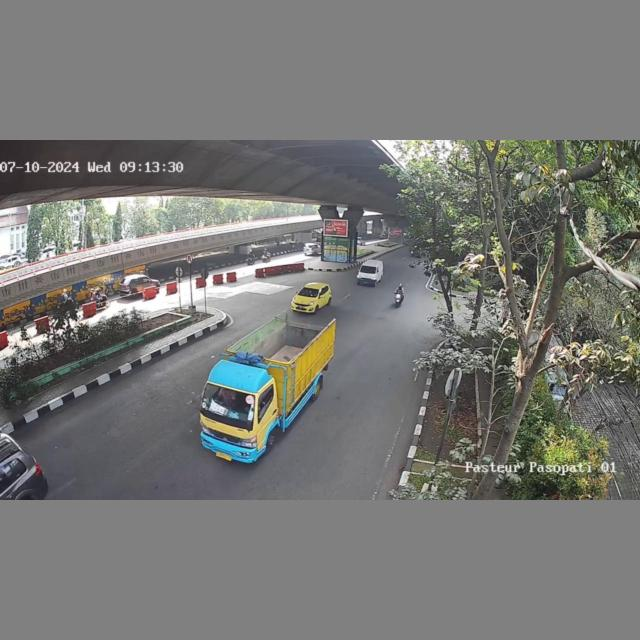windshield: (200, 383, 256, 421), (298, 287, 320, 298), (360, 265, 377, 274)
